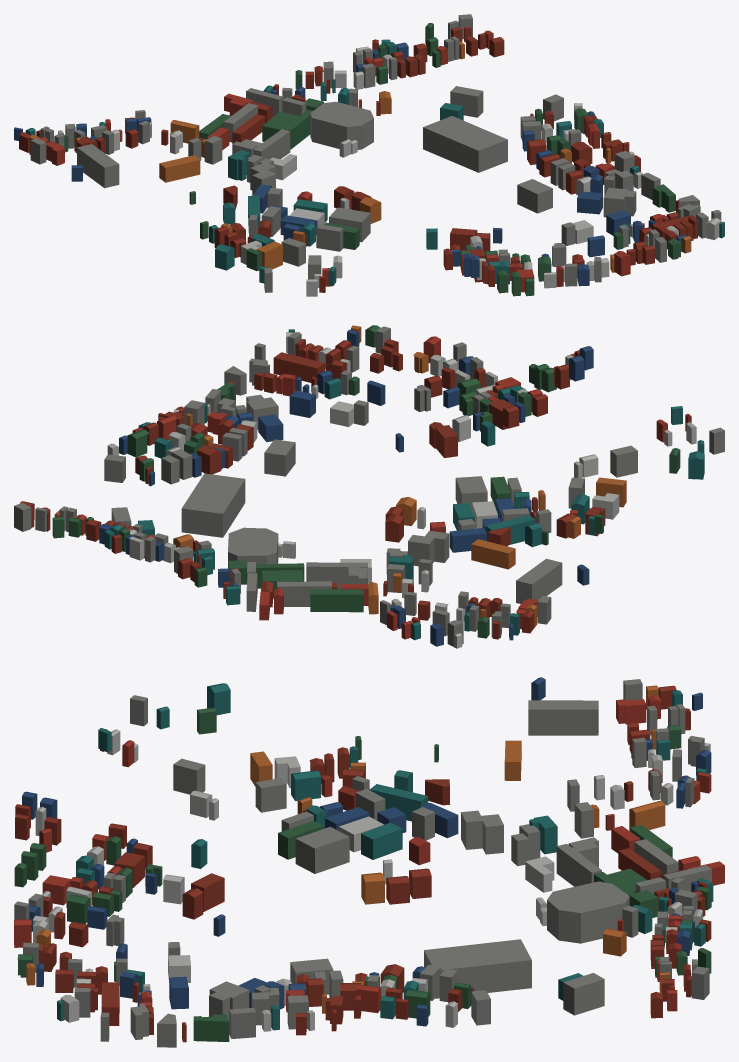
File: near-16-54717-29730.b49edf92.glb
The picture shows the model from 3 angles, top to bottom: view 1: azimuth 30°, elevation 25°; view 2: azimuth 150°, elevation 25°; view 3: azimuth 270°, elevation 25°; orthographic projection. The views are drawn at different scales.
Bounding box in the file's own units: 596 × 85.28 × 603.
